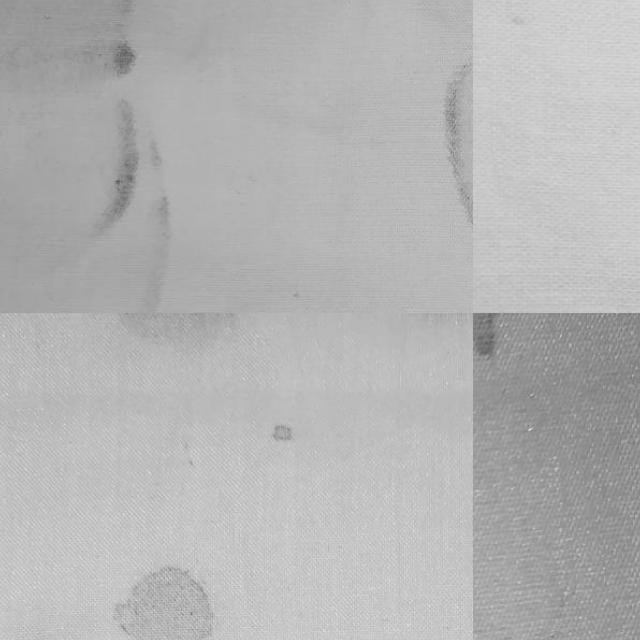Thread_other: (81, 527, 261, 640), (52, 313, 276, 396), (473, 313, 577, 425), (255, 412, 315, 458)
